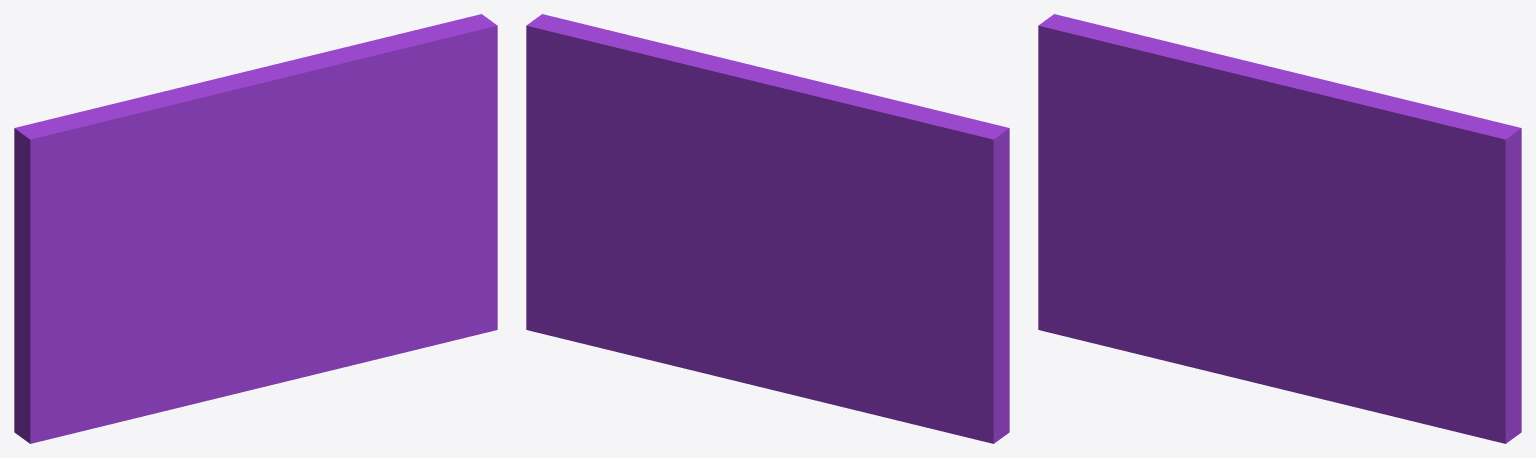
File: Barrier_118_chunks.fbx
3 views of the same model, side by side, from view 1: azimuth 30°, elevation 25°; view 2: azimuth 150°, elevation 25°; view 3: azimuth 330°, elevation 25° (orthographic).
Visible parts, largest first — view 1: Barrier_118_0, Barrier_118_2, Barrier_118_6, Barrier_118_9, Barrier_118_3, Barrier_118_7, Barrier_118_5, Barrier_118_1, Barrier_118_8; view 2: Barrier_118_0, Barrier_118_1, Barrier_118_3, Barrier_118_6, Barrier_118_9, Barrier_118_2, Barrier_118_5, Barrier_118_7, Barrier_118_4; view 3: Barrier_118_0, Barrier_118_2, Barrier_118_6, Barrier_118_9, Barrier_118_3, Barrier_118_7, Barrier_118_5, Barrier_118_1, Barrier_118_8.
Part boxes in pixels (<box>): Barrier_118_0: <box>14,87,256,443</box>; Barrier_118_2: <box>339,218,497,354</box>; Barrier_118_6: <box>181,68,329,237</box>; Barrier_118_9: <box>259,14,497,128</box>; Barrier_118_3: <box>142,292,393,416</box>; Barrier_118_7: <box>355,46,497,218</box>; Barrier_118_5: <box>188,218,367,344</box>; Barrier_118_1: <box>361,148,497,221</box>; Barrier_118_8: <box>313,128,371,227</box>; Barrier_118_0: <box>767,91,1009,443</box>; Barrier_118_1: <box>526,82,767,260</box>; Barrier_118_3: <box>623,300,868,413</box>; Barrier_118_6: <box>672,71,858,204</box>; Barrier_118_9: <box>526,14,776,131</box>; Barrier_118_2: <box>526,257,646,353</box>; Barrier_118_5: <box>673,253,822,341</box>; Barrier_118_7: <box>526,37,676,158</box>; Barrier_118_4: <box>626,256,703,349</box>; Barrier_118_0: <box>1038,14,1264,356</box>; Barrier_118_2: <box>1347,269,1521,443</box>; Barrier_118_6: <box>1189,54,1337,250</box>; Barrier_118_9: <box>1270,74,1521,180</box>; Barrier_118_3: <box>1150,308,1401,418</box>; Barrier_118_7: <box>1364,140,1521,265</box>; Barrier_118_5: <box>1196,234,1376,328</box>; Barrier_118_1: <box>1369,185,1521,362</box>; Barrier_118_8: <box>1321,161,1379,263</box>.
Size of the model in its own units: 462 by 288 by 27.2.
